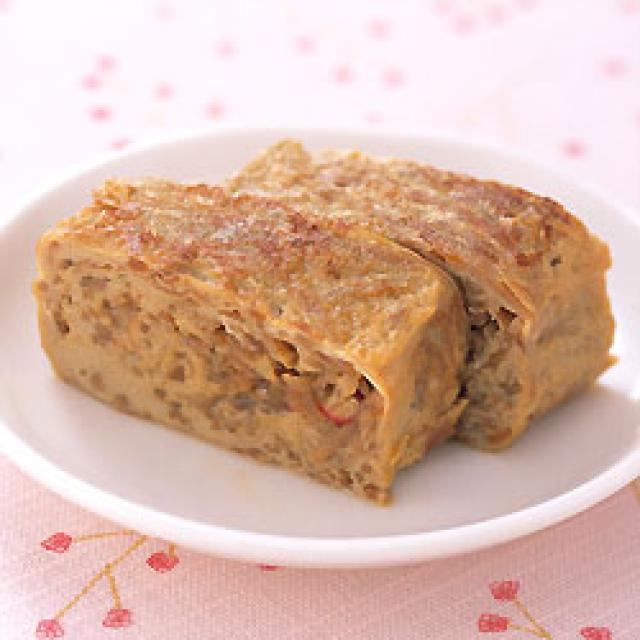鸡蛋料理: (33, 136, 614, 514)
